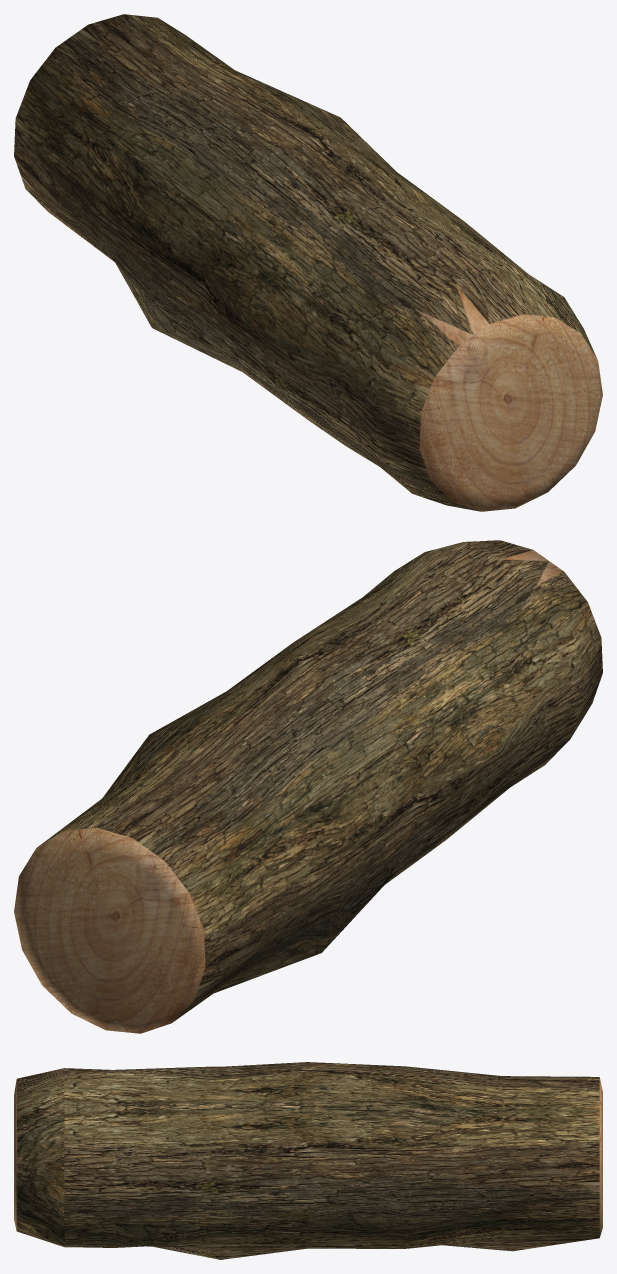
The model's file is tronco_1.fbx.
The picture shows the model from 3 angles, top to bottom: view 1: azimuth 30°, elevation 25°; view 2: azimuth 150°, elevation 25°; view 3: azimuth 270°, elevation 25°; orthographic projection. The views are drawn at different scales.
Parts seen in each view (by area): view 1: tronco; view 2: tronco; view 3: tronco.
Part boxes in pixels (bbox=[...]): tronco: bbox=[14, 14, 602, 511]; tronco: bbox=[14, 540, 602, 1033]; tronco: bbox=[14, 1062, 602, 1259].
Size of the model in its own units: 220 by 227 by 640.
